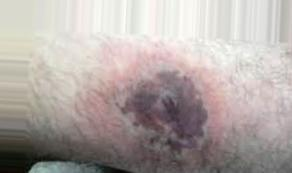Spider: (112, 59, 218, 169)
